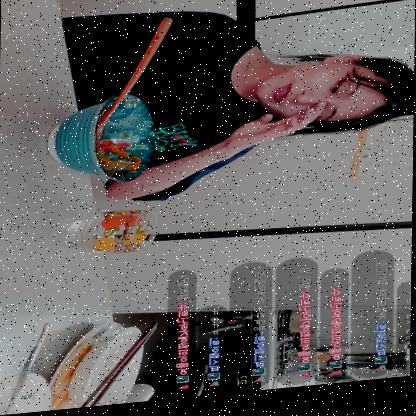streamer: (59, 0, 415, 212)
